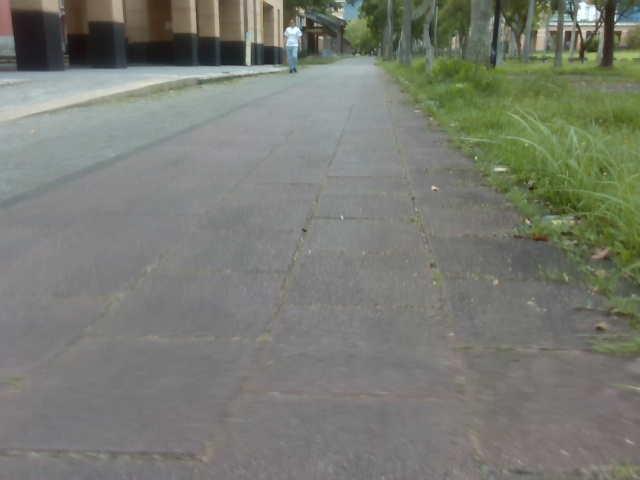grass: (377, 46, 639, 314), (285, 0, 639, 69)
road: (0, 58, 639, 479)
sidewalk: (0, 67, 286, 122)
